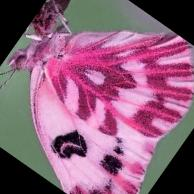butterfly: (8, 30, 194, 194)
